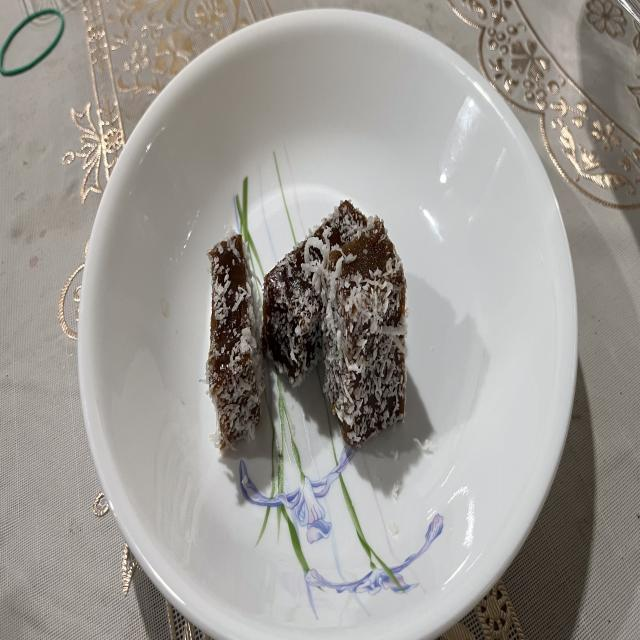kaswi: (323, 218, 407, 452), (259, 207, 367, 389), (206, 231, 265, 449)
